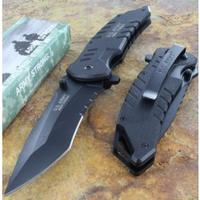knife: (3, 11, 142, 199)
